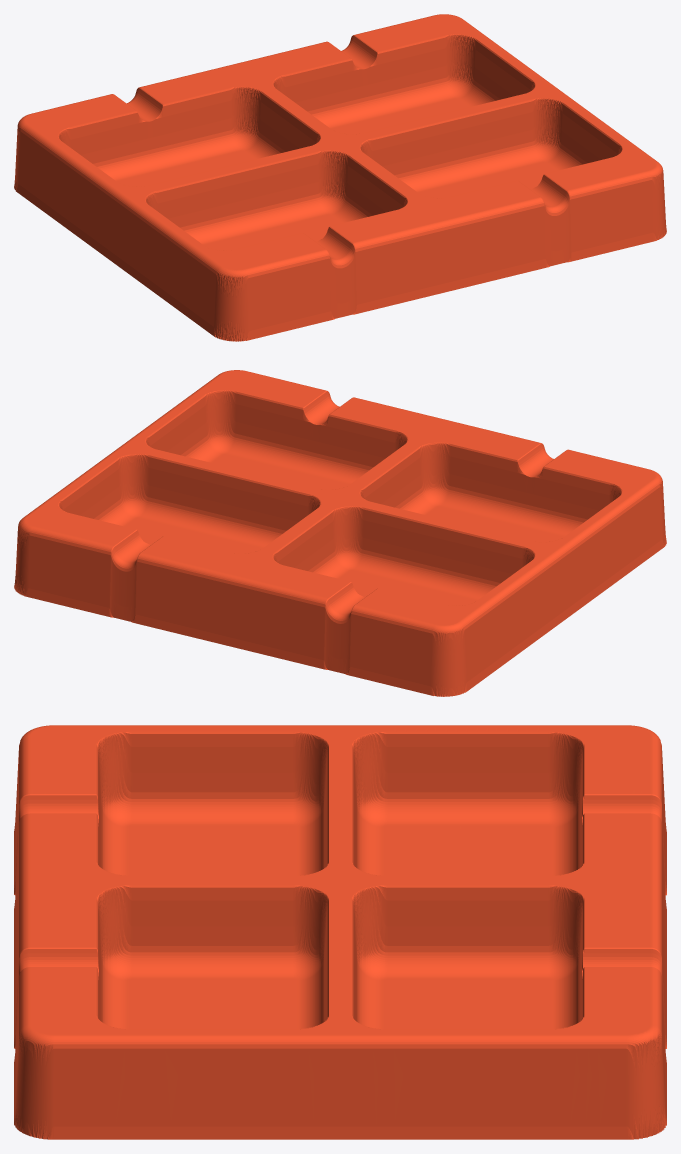
The model's file is mold.glb.
3 views of the same model, one above another, from view 1: azimuth 30°, elevation 25°; view 2: azimuth 150°, elevation 25°; view 3: azimuth 270°, elevation 25° (orthographic). The views are drawn at different scales.
Visible parts, largest first — view 1: geometry_0; view 2: geometry_0; view 3: geometry_0.
Part boxes in pixels (box(x1,y1,x2,y2)): geometry_0: box(14, 14, 666, 341); geometry_0: box(14, 370, 666, 696); geometry_0: box(14, 725, 666, 1139).
Size of the model in its own units: 0.1726 by 0.0245 by 0.1479.
